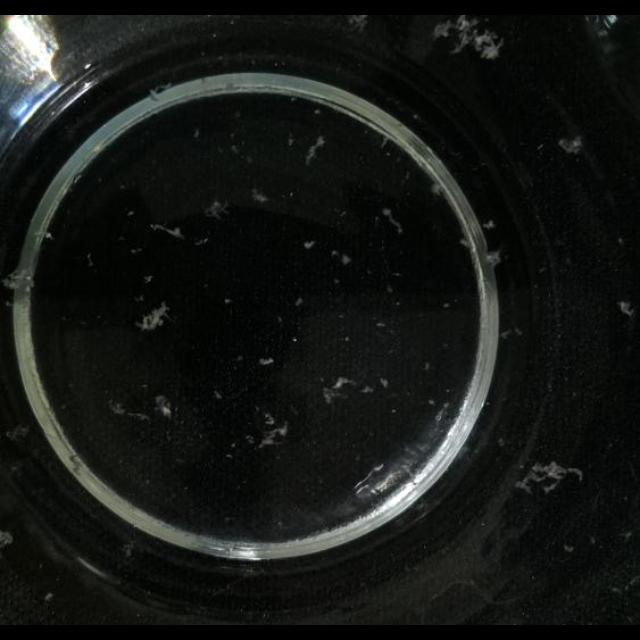Fibre: (435, 15, 503, 60), (516, 460, 582, 496), (321, 374, 361, 406), (134, 303, 172, 333), (256, 419, 290, 449), (304, 134, 326, 166), (202, 198, 230, 220), (6, 424, 32, 444), (154, 394, 173, 420), (330, 376, 356, 392), (252, 189, 270, 205), (0, 530, 14, 550), (341, 254, 352, 266)
microbeads: (558, 134, 584, 154), (617, 300, 635, 318), (303, 240, 315, 250), (260, 357, 274, 365)
